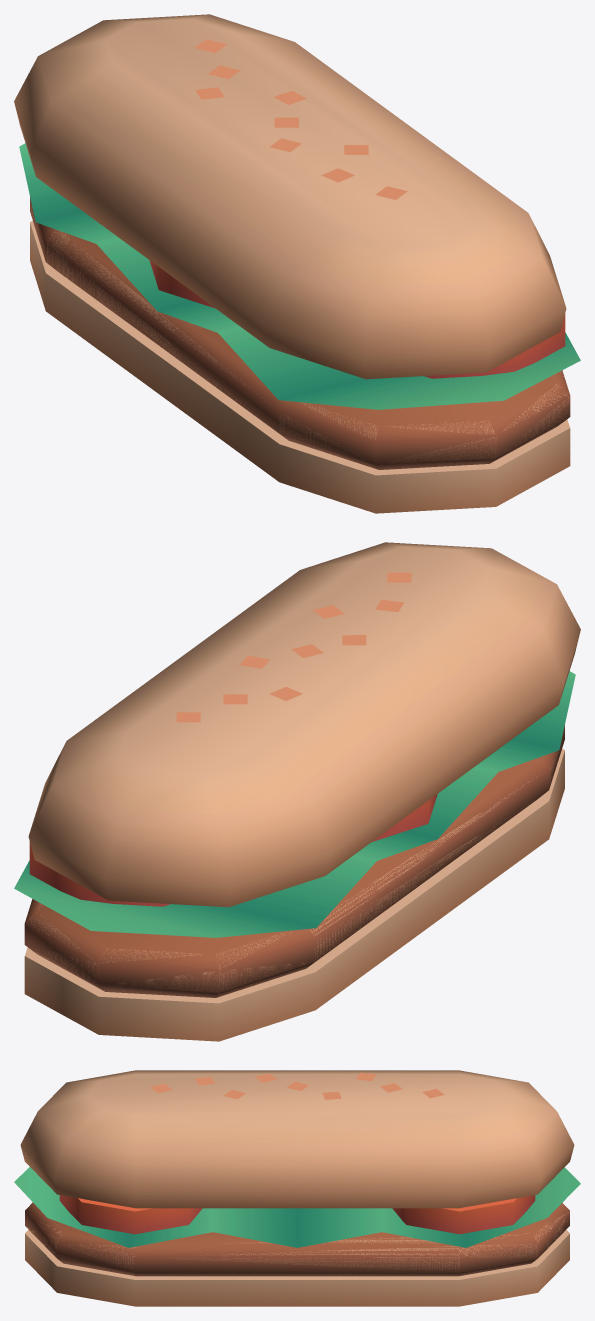
3 views of the same model, one above another, from view 1: azimuth 30°, elevation 25°; view 2: azimuth 150°, elevation 25°; view 3: azimuth 270°, elevation 25° (orthographic). The views are drawn at different scales.
Parts seen in each view (by area): view 1: bun-top, meat, bun-bottom, lettuce, tomato (×2); view 2: bun-top, meat, bun-bottom, lettuce, tomato (×2); view 3: bun-top, meat, bun-bottom, lettuce, tomato (×2).
Boxes of the visible parts, <box> form: bun-top: <box>14,14,566,379</box>; meat: <box>30,197,570,469</box>; bun-bottom: <box>30,221,570,513</box>; lettuce: <box>19,143,580,409</box>; tomato (×2): <box>149,260,565,378</box>; bun-top: <box>28,542,580,907</box>; meat: <box>24,725,564,997</box>; bun-bottom: <box>24,749,564,1041</box>; lettuce: <box>14,671,575,937</box>; tomato (×2): <box>29,794,437,906</box>; bun-top: <box>20,1070,574,1208</box>; meat: <box>25,1202,569,1276</box>; bun-bottom: <box>25,1229,569,1306</box>; lettuce: <box>14,1167,580,1247</box>; tomato (×2): <box>59,1195,535,1234</box>.
Bounding box in the file's own units: 0.2827 × 0.2225 × 0.6756.
Materials: 1 (1 with a texture image).
